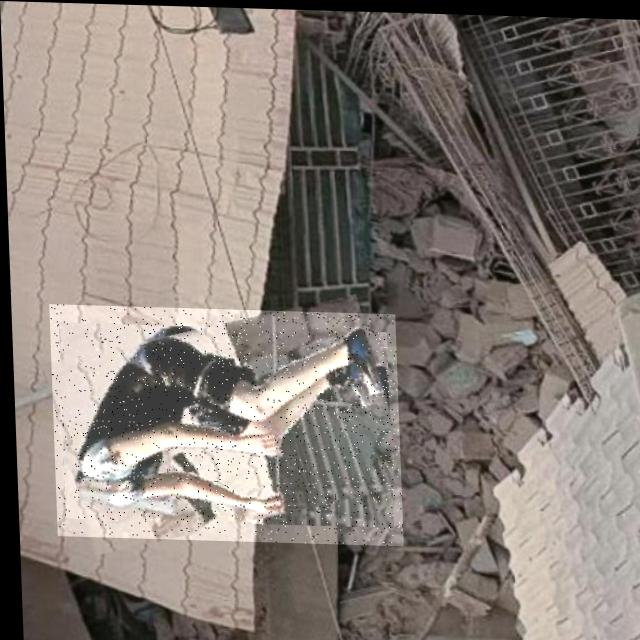Person in Rubble: (47, 303, 400, 543)
